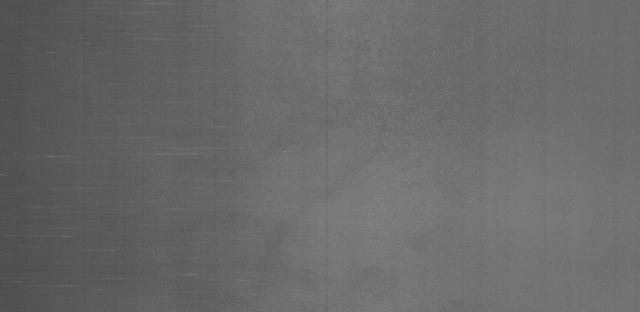waist_folding: (30, 25, 258, 277)
